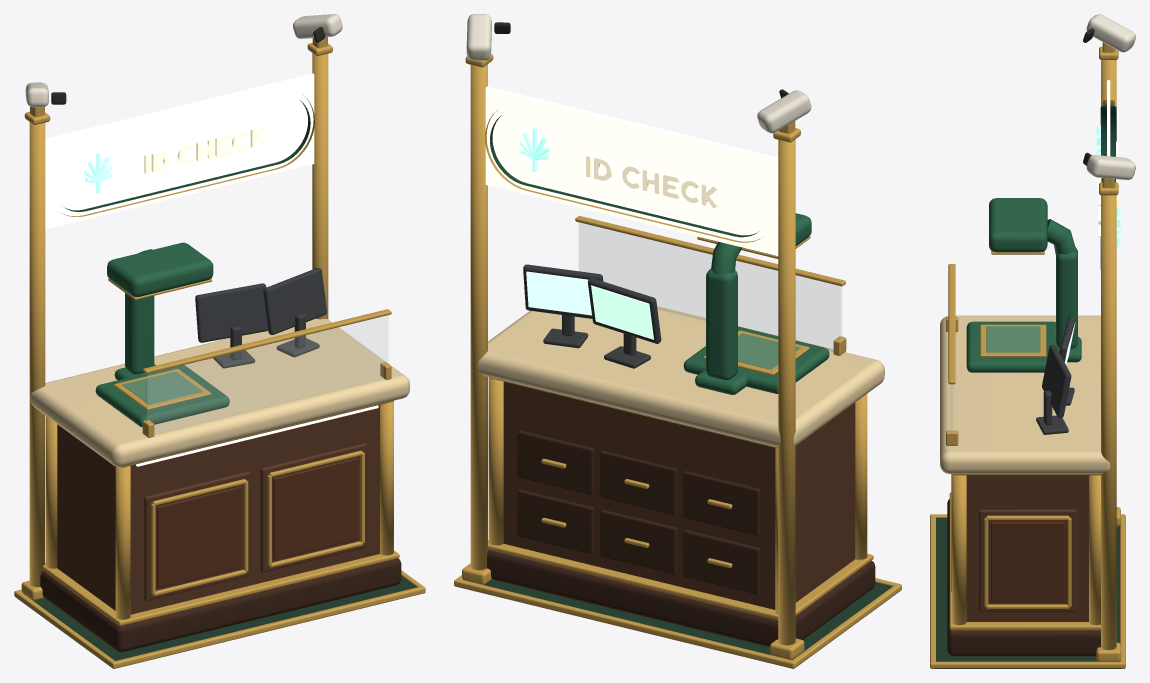
Rendered from security_booth_tier4.glb.
3 views of the same model, side by side, from view 1: azimuth 30°, elevation 25°; view 2: azimuth 150°, elevation 25°; view 3: azimuth 270°, elevation 25° (orthographic). The views are drawn at different scales.
Visible parts, largest first — view 1: Top, Body, SignGlow, GuardGlass, Plinth, RearPost-1, Front0Inset, Front1Inset, LampHead, RearPost1, PlinthBrass, Mat (+19 smaller); view 2: Body, SignGlow, Top, GuardGlass, Plinth, RearPost-1, RearPost1, PlinthBrass, Drawer20, Drawer21, Drawer10, Drawer11 (+23 smaller); view 3: Top, Body, RearPost1, EndInset, Plinth, Mat, End, LampHead, ScanPad, Column1-1, ArmCol, Column11 (+20 smaller).
Boxes of the visible parts, x1,y1,x2,y2 form: Top: [30, 318, 409, 467]; Body: [57, 405, 379, 614]; SignGlow: [45, 73, 314, 229]; GuardGlass: [146, 315, 388, 433]; Plinth: [40, 558, 401, 652]; RearPost-1: [29, 122, 45, 586]; Front0Inset: [157, 486, 241, 587]; Front1Inset: [273, 458, 357, 559]; LampHead: [107, 242, 213, 297]; RearPost1: [312, 53, 328, 319]; PlinthBrass: [42, 550, 399, 625]; Mat: [16, 576, 416, 668]; Body: [503, 381, 855, 609]; SignGlow: [485, 86, 778, 255]; Top: [477, 306, 884, 447]; GuardGlass: [579, 223, 842, 351]; Plinth: [487, 549, 875, 646]; RearPost-1: [778, 139, 795, 645]; RearPost1: [470, 64, 487, 570]; PlinthBrass: [487, 540, 873, 620]; Drawer20: [517, 489, 594, 554]; Drawer21: [517, 430, 594, 495]; Drawer10: [600, 509, 677, 574]; Drawer11: [600, 450, 677, 515]; Top: [940, 315, 1110, 473]; Body: [966, 475, 1088, 621]; RearPost1: [1101, 195, 1116, 649]; EndInset: [991, 522, 1064, 602]; Plinth: [947, 499, 1100, 656]; Mat: [934, 517, 1121, 668]; End: [979, 509, 1076, 612]; LampHead: [989, 198, 1047, 252]; ScanPad: [966, 321, 1056, 372]; Column1-1: [952, 474, 966, 625]; ArmCol: [1056, 247, 1077, 348]; Column11: [1089, 475, 1100, 625].
Bounding box in the file's own units: 1.46 × 2.29 × 0.841.
